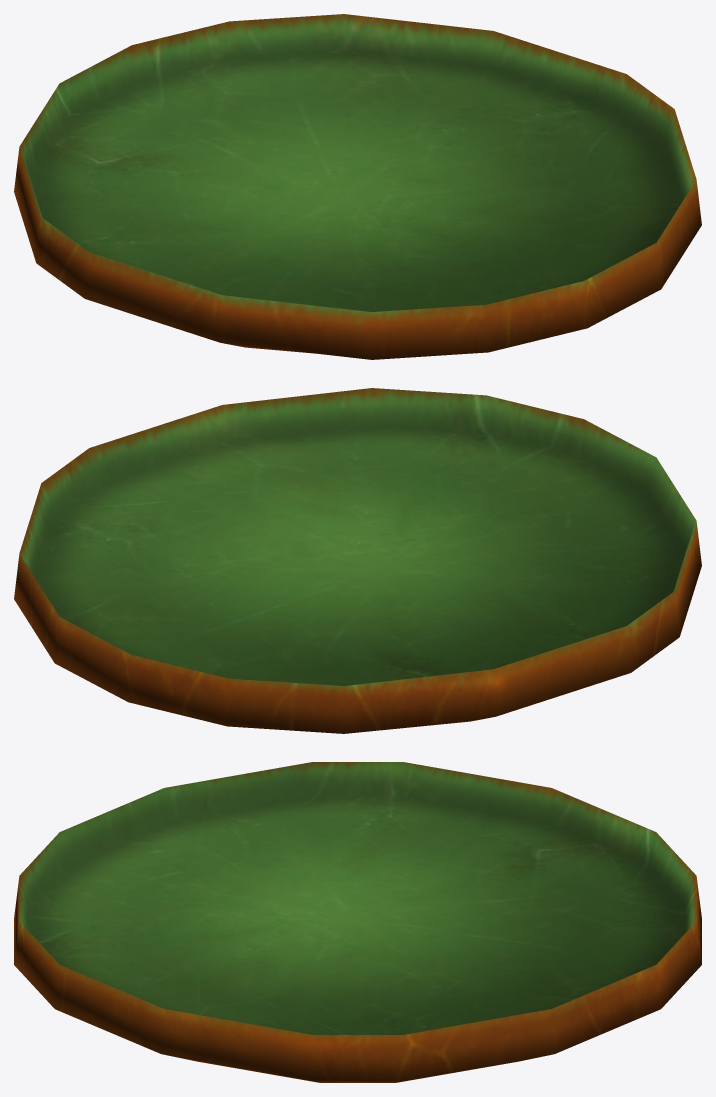
The model's file is Waterlily_Huge.fbx.
The picture shows the model from 3 angles, top to bottom: view 1: azimuth 30°, elevation 25°; view 2: azimuth 150°, elevation 25°; view 3: azimuth 270°, elevation 25°; orthographic projection. The views are drawn at different scales.
Visible parts, largest first — view 1: Waterlily_Huge; view 2: Waterlily_Huge; view 3: Waterlily_Huge.
Boxes of the visible parts, x1,y1,x2,y2 form: Waterlily_Huge: (14,14,701,359); Waterlily_Huge: (14,388,701,733); Waterlily_Huge: (14,762,701,1082).
Size of the model in its own units: 48.32 by 5.91 by 50.69.
